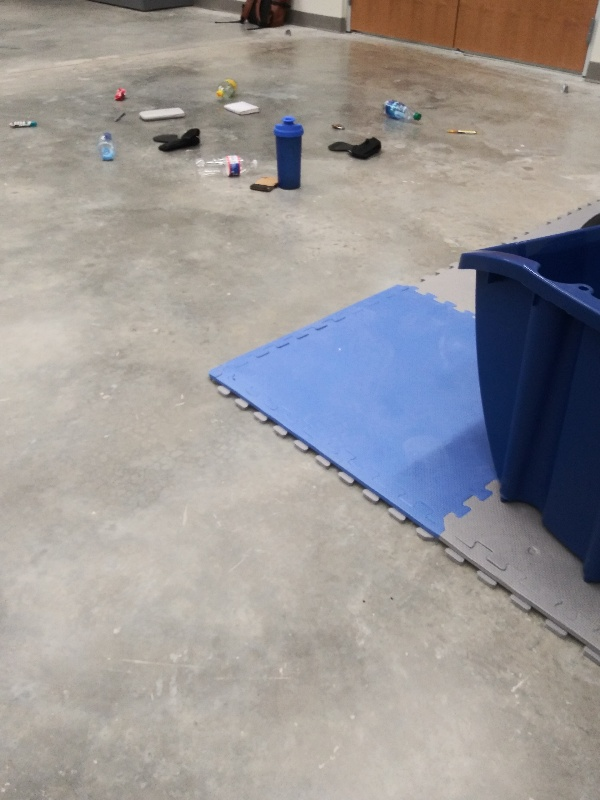bottle: (194, 154, 261, 179), (380, 98, 424, 124), (215, 77, 243, 104), (96, 129, 117, 163)
